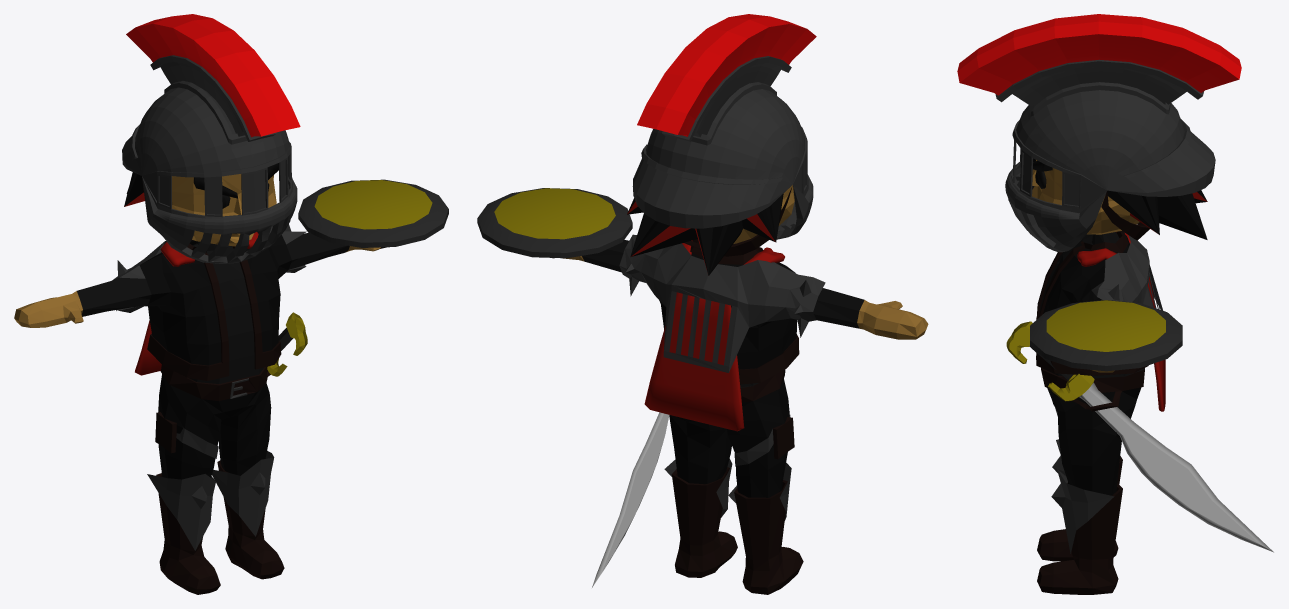
File: Warrior With Sword & Shield.FBX
3 views of the same model, side by side, from view 1: azimuth 30°, elevation 25°; view 2: azimuth 150°, elevation 25°; view 3: azimuth 270°, elevation 25° (orthographic). The views are drawn at different scales.
Visible parts, largest first — view 1: HEAD HELMEt, Character, JackHekmet, Shield, Boothelmet, Leg Strap, Cape, Box001; view 2: HEAD HELMEt, Character, JackHekmet, Shield, Cape, Box001, Leg Strap, Boothelmet; view 3: HEAD HELMEt, Character, Shield, Box001, JackHekmet, Boothelmet, Cape.
Boxes of the visible parts, x1,y1,x2,y2 form: HEAD HELMEt: [122, 14, 300, 263]; Character: [14, 172, 380, 594]; JackHekmet: [112, 224, 306, 380]; Shield: [298, 179, 448, 248]; Boothelmet: [147, 451, 274, 550]; Leg Strap: [155, 412, 218, 458]; Cape: [135, 232, 258, 375]; Box001: [267, 312, 307, 376]; HEAD HELMEt: [632, 14, 816, 256]; Character: [563, 185, 928, 594]; JackHekmet: [619, 234, 825, 384]; Shield: [477, 188, 632, 258]; Cape: [644, 240, 784, 431]; Box001: [592, 412, 669, 587]; Leg Strap: [734, 415, 794, 465]; Boothelmet: [664, 458, 791, 520]; HEAD HELMEt: [957, 14, 1241, 252]; Character: [1032, 160, 1207, 594]; Shield: [1030, 300, 1182, 371]; Box001: [1006, 321, 1273, 552]; JackHekmet: [1036, 231, 1162, 375]; Boothelmet: [1051, 439, 1114, 553]; Cape: [1077, 232, 1165, 411].
Size of the model in its own units: 14.51 by 17.44 by 9.1.
